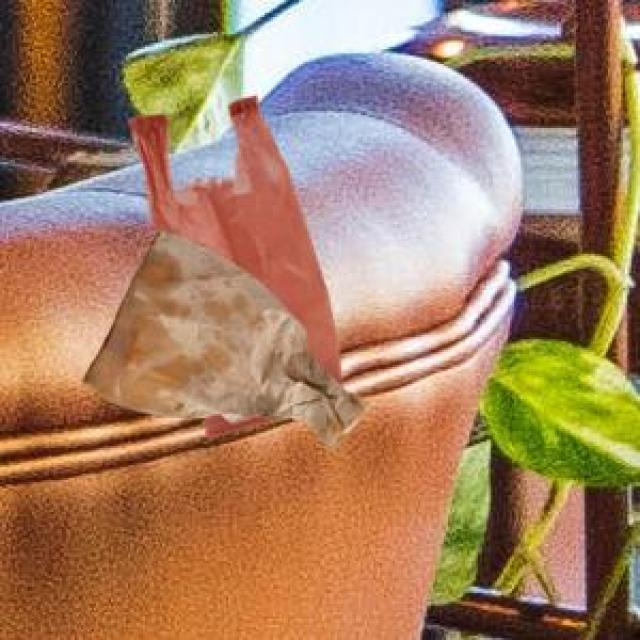paper: (77, 224, 365, 446)
